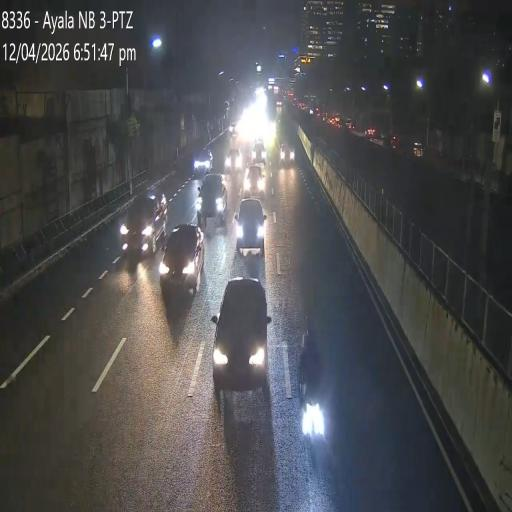Car: (210, 277, 272, 406), (159, 224, 205, 300), (121, 194, 165, 259), (234, 196, 266, 257), (197, 171, 228, 225), (242, 162, 266, 199), (192, 150, 212, 178), (225, 145, 242, 175), (279, 140, 295, 167), (251, 140, 266, 168)
Motor: (292, 330, 333, 468)
Not Accident: (236, 163, 268, 255), (190, 149, 228, 225)
